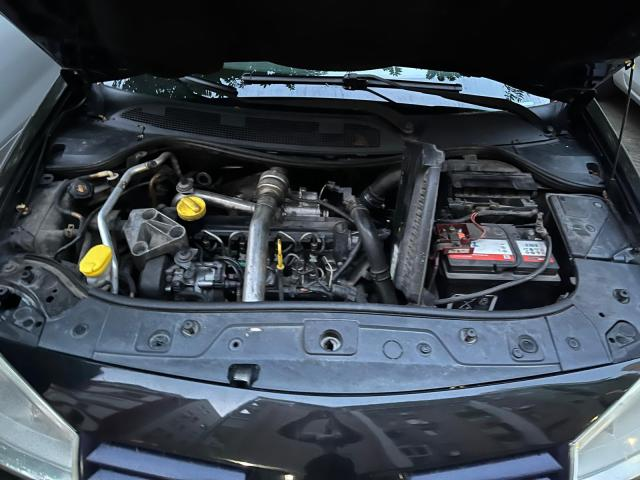accumulator: (426, 221, 562, 311)
antifreeze_tank: (9, 180, 79, 255), (60, 180, 94, 209)
fuse_box: (546, 194, 630, 260)
high_pressure_pump: (165, 261, 241, 301)
